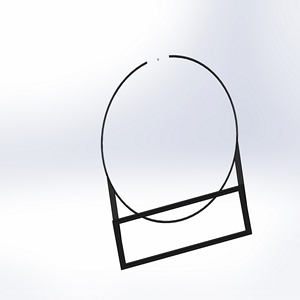circle: (97, 53, 252, 270)
